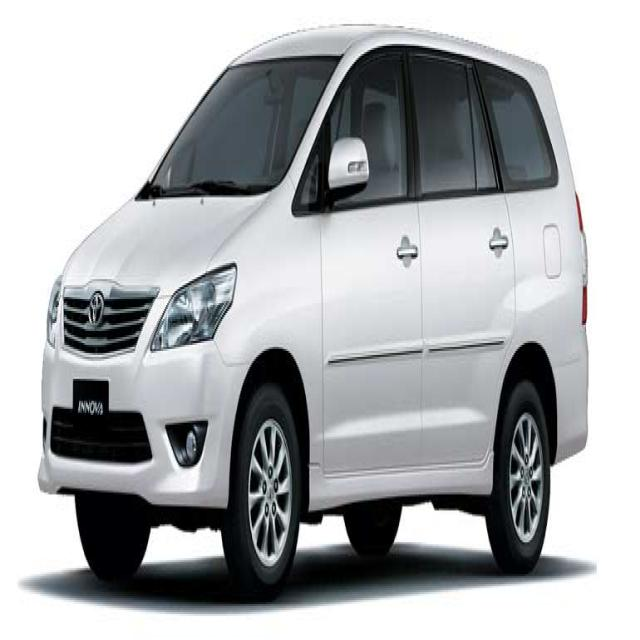light_vehicle: (38, 25, 590, 599)
